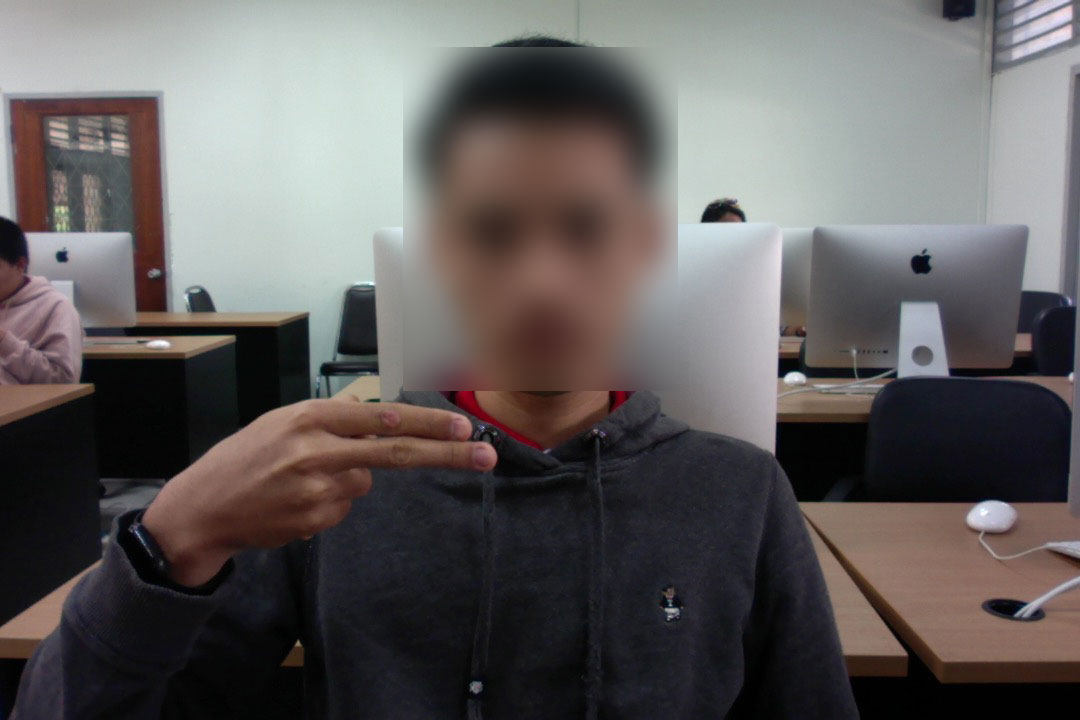hor: (140, 393, 511, 562)
